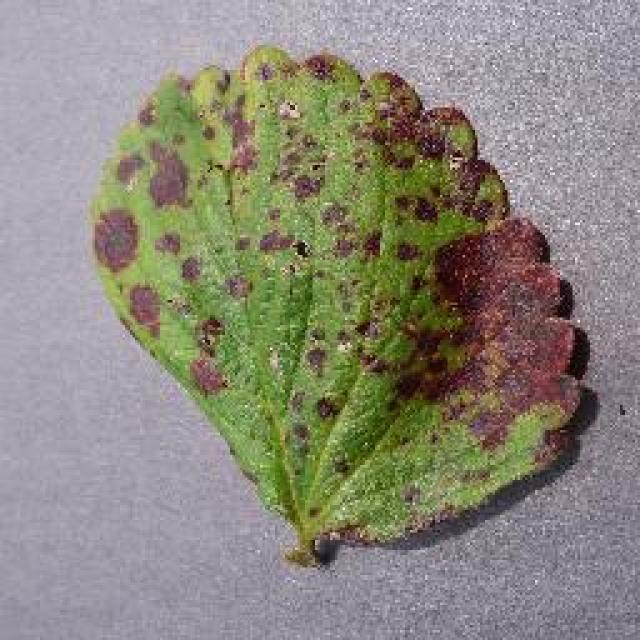Strawberry___Leaf_scorch: (72, 23, 592, 585)
